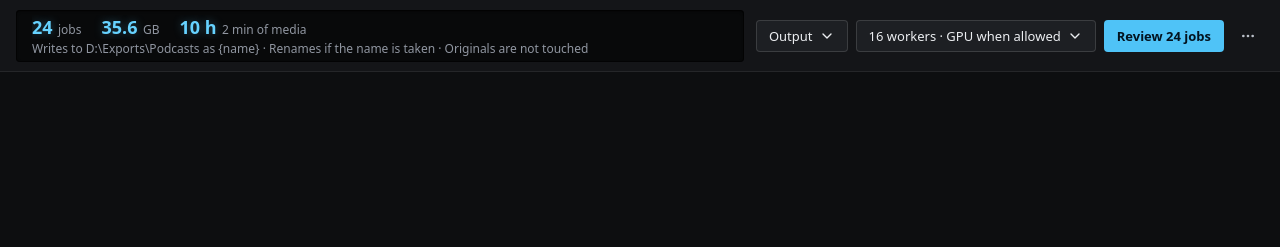
Test case: RunHeader overflow menu › leaves out the log while the header describes no batch
What coordinates should you click on to do the following:
click the button named "More batch actions"
I would click on:
 (1248, 36)
Its box is [1232,20,1264,52].
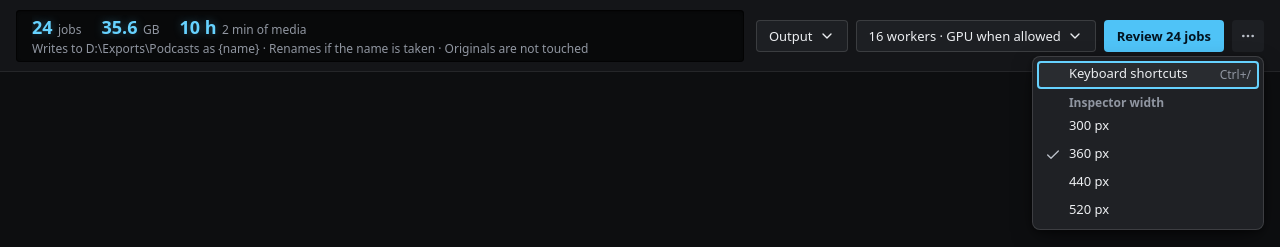
expect the menu item "Keyboard shortcuts Ctrl+/" is shown: met, box [1037,60,1259,88]
